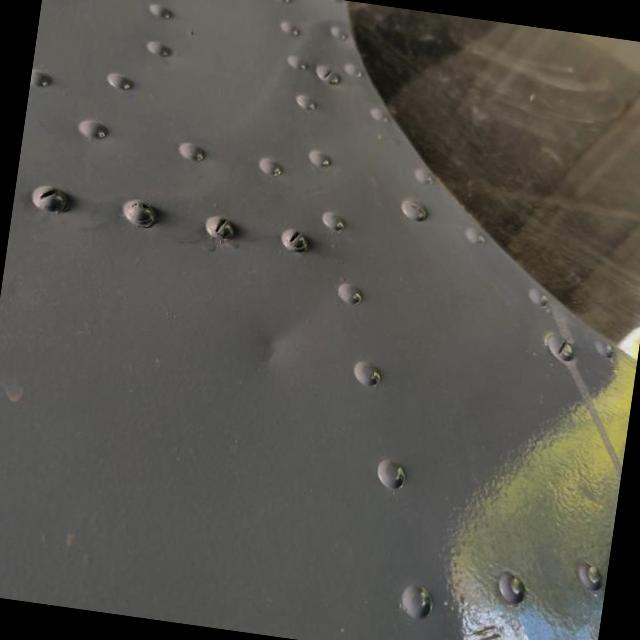dent: (232, 314, 306, 388)
